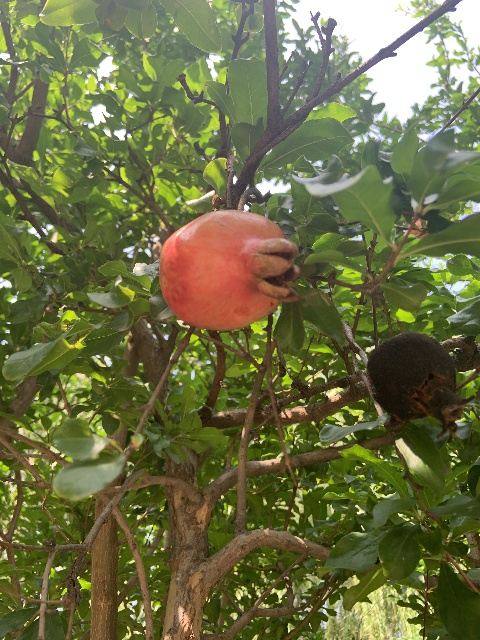ripe: (158, 209, 300, 330)
